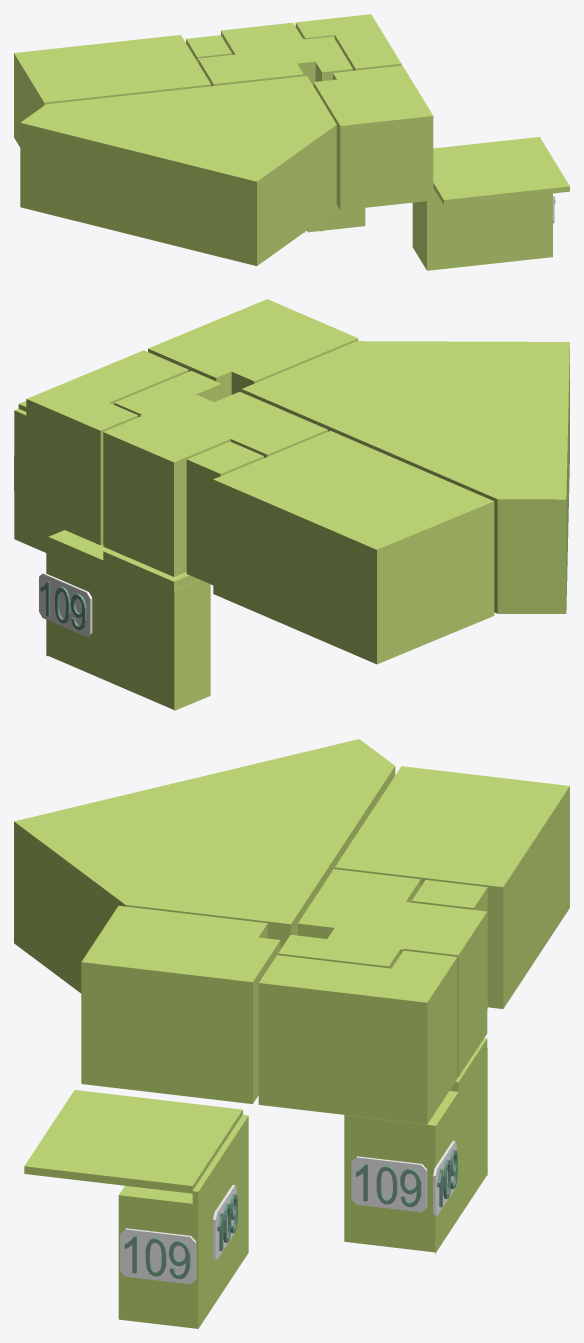
3 renders of one model, top to bottom at view 1: azimuth 30°, elevation 25°; view 2: azimuth 150°, elevation 25°; view 3: azimuth 270°, elevation 25°, orthographic. The views are drawn at different scales.
Parts seen in each view (by area): view 1: g_2, g_7, g_3, g_1, g_10, g_4, g_6, g_8, g_0, g_5; view 2: g_3, g_2, g_9, g_6, g_8, g_7, g_4, g_5, g_0, g_1, g_18; view 3: g_2, g_7, g_6, g_3, g_10, g_1, g_4, g_0, g_8, g_9, g_14, g_22 (+1 smaller).
Boxes of the visible parts, bbox=[...] form: g_2: bbox=[20, 76, 336, 265]; g_7: bbox=[313, 65, 433, 210]; g_3: bbox=[14, 35, 210, 147]; g_1: bbox=[412, 188, 552, 270]; g_10: bbox=[433, 137, 569, 205]; g_4: bbox=[198, 36, 352, 86]; g_6: bbox=[295, 14, 401, 70]; g_8: bbox=[221, 22, 302, 51]; g_0: bbox=[307, 205, 365, 232]; g_5: bbox=[186, 35, 231, 62]; g_3: bbox=[213, 431, 494, 664]; g_2: bbox=[241, 341, 569, 613]; g_9: bbox=[87, 546, 210, 710]; g_6: bbox=[26, 350, 188, 545]; g_8: bbox=[103, 416, 214, 576]; g_7: bbox=[148, 299, 358, 398]; g_4: bbox=[114, 371, 327, 457]; g_5: bbox=[186, 441, 263, 584]; g_0: bbox=[46, 530, 103, 672]; g_1: bbox=[14, 408, 63, 552]; g_18: bbox=[39, 573, 92, 636]; g_2: bbox=[14, 739, 395, 993]; g_7: bbox=[81, 905, 280, 1103]; g_6: bbox=[258, 950, 457, 1124]; g_3: bbox=[335, 766, 569, 1008]; g_10: bbox=[24, 1090, 242, 1193]; g_1: bbox=[118, 1114, 248, 1328]; g_4: bbox=[278, 869, 428, 968]; g_0: bbox=[344, 1101, 451, 1253]; g_8: bbox=[404, 904, 487, 1077]; g_9: bbox=[443, 1038, 487, 1227]; g_14: bbox=[120, 1228, 196, 1284]; g_22: bbox=[351, 1156, 427, 1212].
Bounding box in the file's own units: 13.82 × 5.2 × 9.92.
